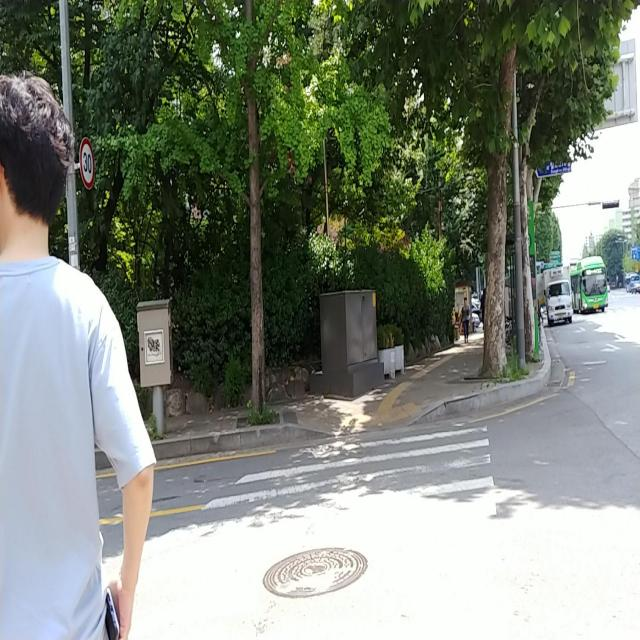횡단보도: (200, 422, 498, 531)
